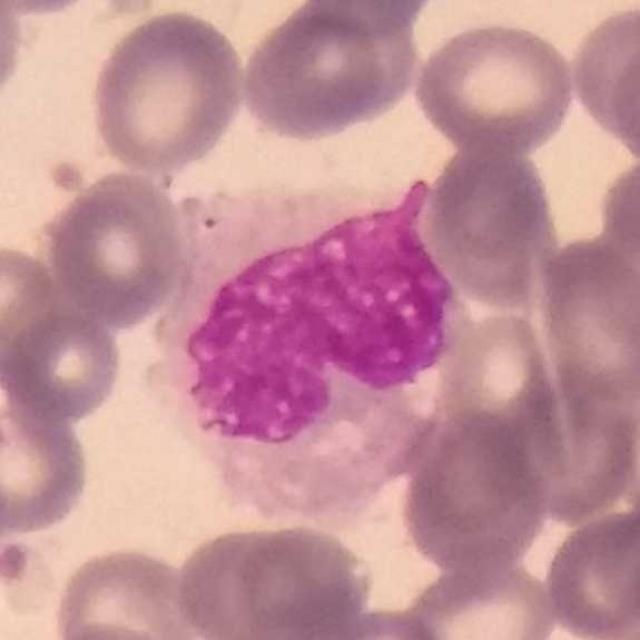mono: (147, 171, 472, 530)
